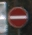No entry: (6, 6, 27, 29)
